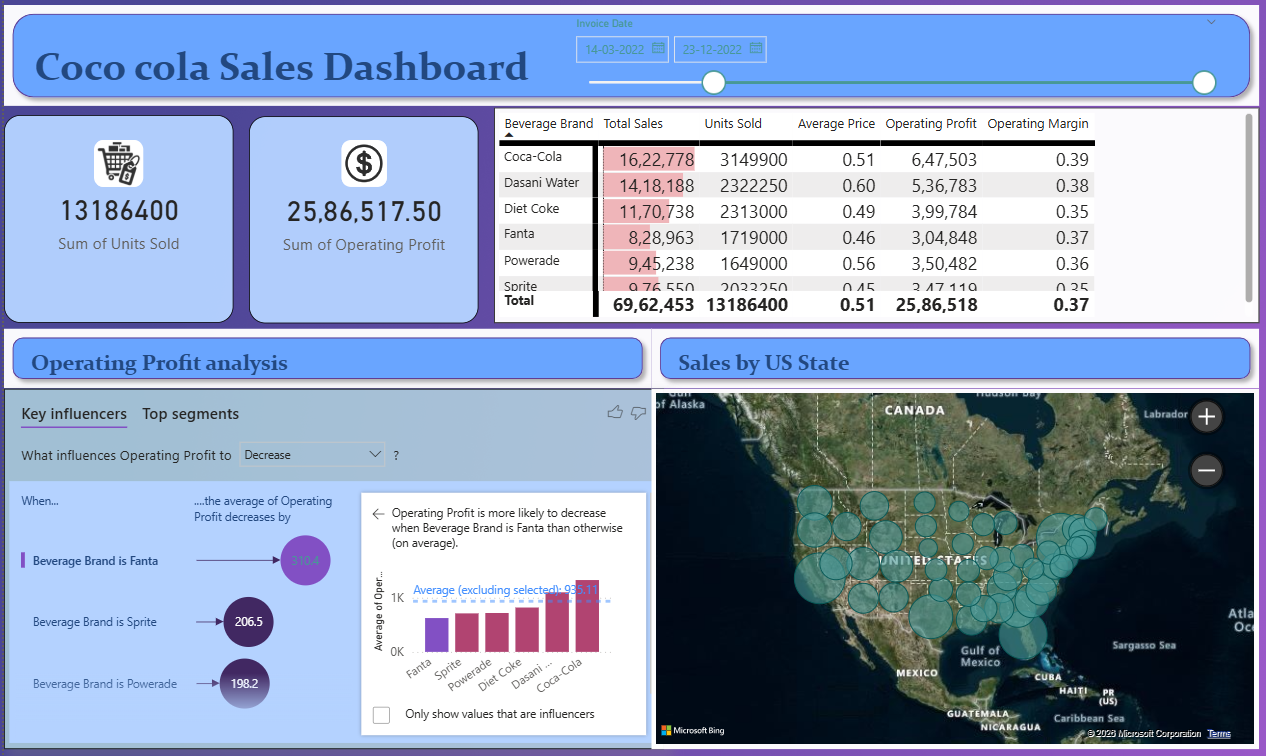

Layout of this report page (visuals, bound fields, positions):
{"tool":"powerbi","page":{"name":"Page 1","canvas":[1500,900],"ordinal":0},"visuals":[{"type":"shape","box":[0,52.5,1303.8,105],"z":0},{"type":"shape","box":[0,388.8,672.5,61.2],"z":1000},{"type":"shape","box":[672.5,388.8,631.2,61.2],"z":2000},{"type":"card","fields":{"Values":["Sum(Data.Units Sold)"]},"box":[0,165.7,238.6,215.7],"z":3000},{"type":"keyDriversVisual","fields":{"Target":["Data.Operating Profit"],"ExplainBy":["Data.Beverage Brand"]},"box":[0,450,685.4,374.4],"z":4000},{"type":"pivotTable","fields":{"Rows":["Data.Beverage Brand"],"Values":["Sum(Data.Total Sales)","Sum(Data.Units Sold)","Avg(Data.Price per Unit)","Sum(Data.Operating Profit)","Avg(Data.Operating Margin)"]},"box":[508.8,158.8,795,223.8],"z":5000},{"type":"map","fields":{"Category":["Data.State"],"Size":["Sum(Data.Total Sales)"]},"box":[672.9,450,631.4,374.3],"z":6000},{"type":"slicer","fields":{"Values":["Data.Invoice Date"]},"box":[581.2,60,690,90],"z":7000},{"type":"card","fields":{"Values":["Sum(Data.Operating Profit)"]},"box":[255,167.5,238.8,215],"z":8000},{"type":"textbox","box":[1314,30.5,186,150],"z":9000},{"type":"image","box":[351.2,192.5,47.5,48.8],"z":10000},{"type":"image","box":[93.8,192.5,51.2,48.8],"z":10001}]}

Visuals, with their boxes in screenshot pixels (x1, y1, x2, y2), scaled from the page's 1500x900 canvas onto the 1266x756 screenshot:
shape: locate(0, 44, 1100, 132)
shape: locate(0, 327, 568, 378)
shape: locate(568, 327, 1100, 378)
card - Sum(Data.Units Sold): locate(0, 139, 201, 320)
keyDriversVisual - Data.Operating Profit x Data.Beverage Brand: locate(0, 378, 578, 692)
pivotTable - Data.Beverage Brand x Sum(Data.Total Sales): locate(429, 133, 1100, 321)
map - Data.State x Sum(Data.Total Sales): locate(568, 378, 1101, 692)
slicer - Data.Invoice Date: locate(491, 50, 1073, 126)
card - Sum(Data.Operating Profit): locate(215, 141, 417, 321)
textbox: locate(1109, 26, 1265, 152)
image: locate(296, 162, 337, 203)
image: locate(79, 162, 122, 203)
